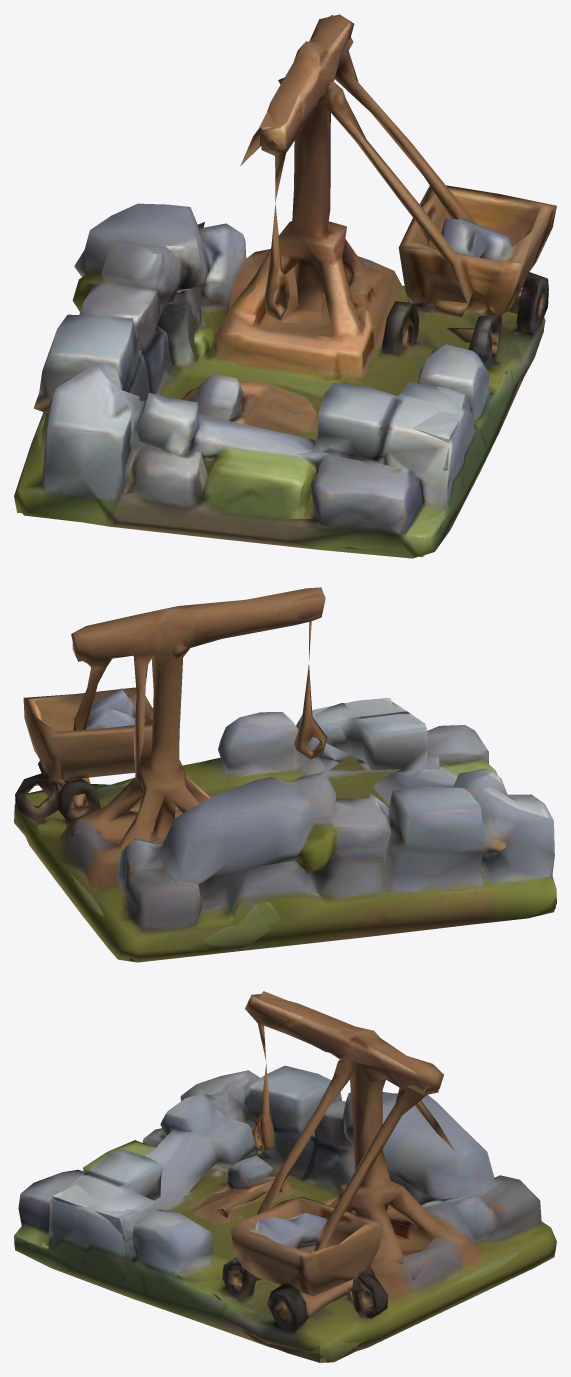
Rendered from quarry.glb.
3 views of the same model, one above another, from view 1: azimuth 30°, elevation 25°; view 2: azimuth 150°, elevation 25°; view 3: azimuth 270°, elevation 25° (orthographic). The views are drawn at different scales.
Parts seen in each view (by area): view 1: level; view 2: level; view 3: level.
Part boxes in pixels (box(x1,y1,x2,y2)): level: box(14, 14, 556, 558); level: box(14, 587, 556, 962); level: box(14, 991, 556, 1362).
Bounding box in the file's own units: 0.8996 × 0.4876 × 0.9158.
1 material, 1 textured.
